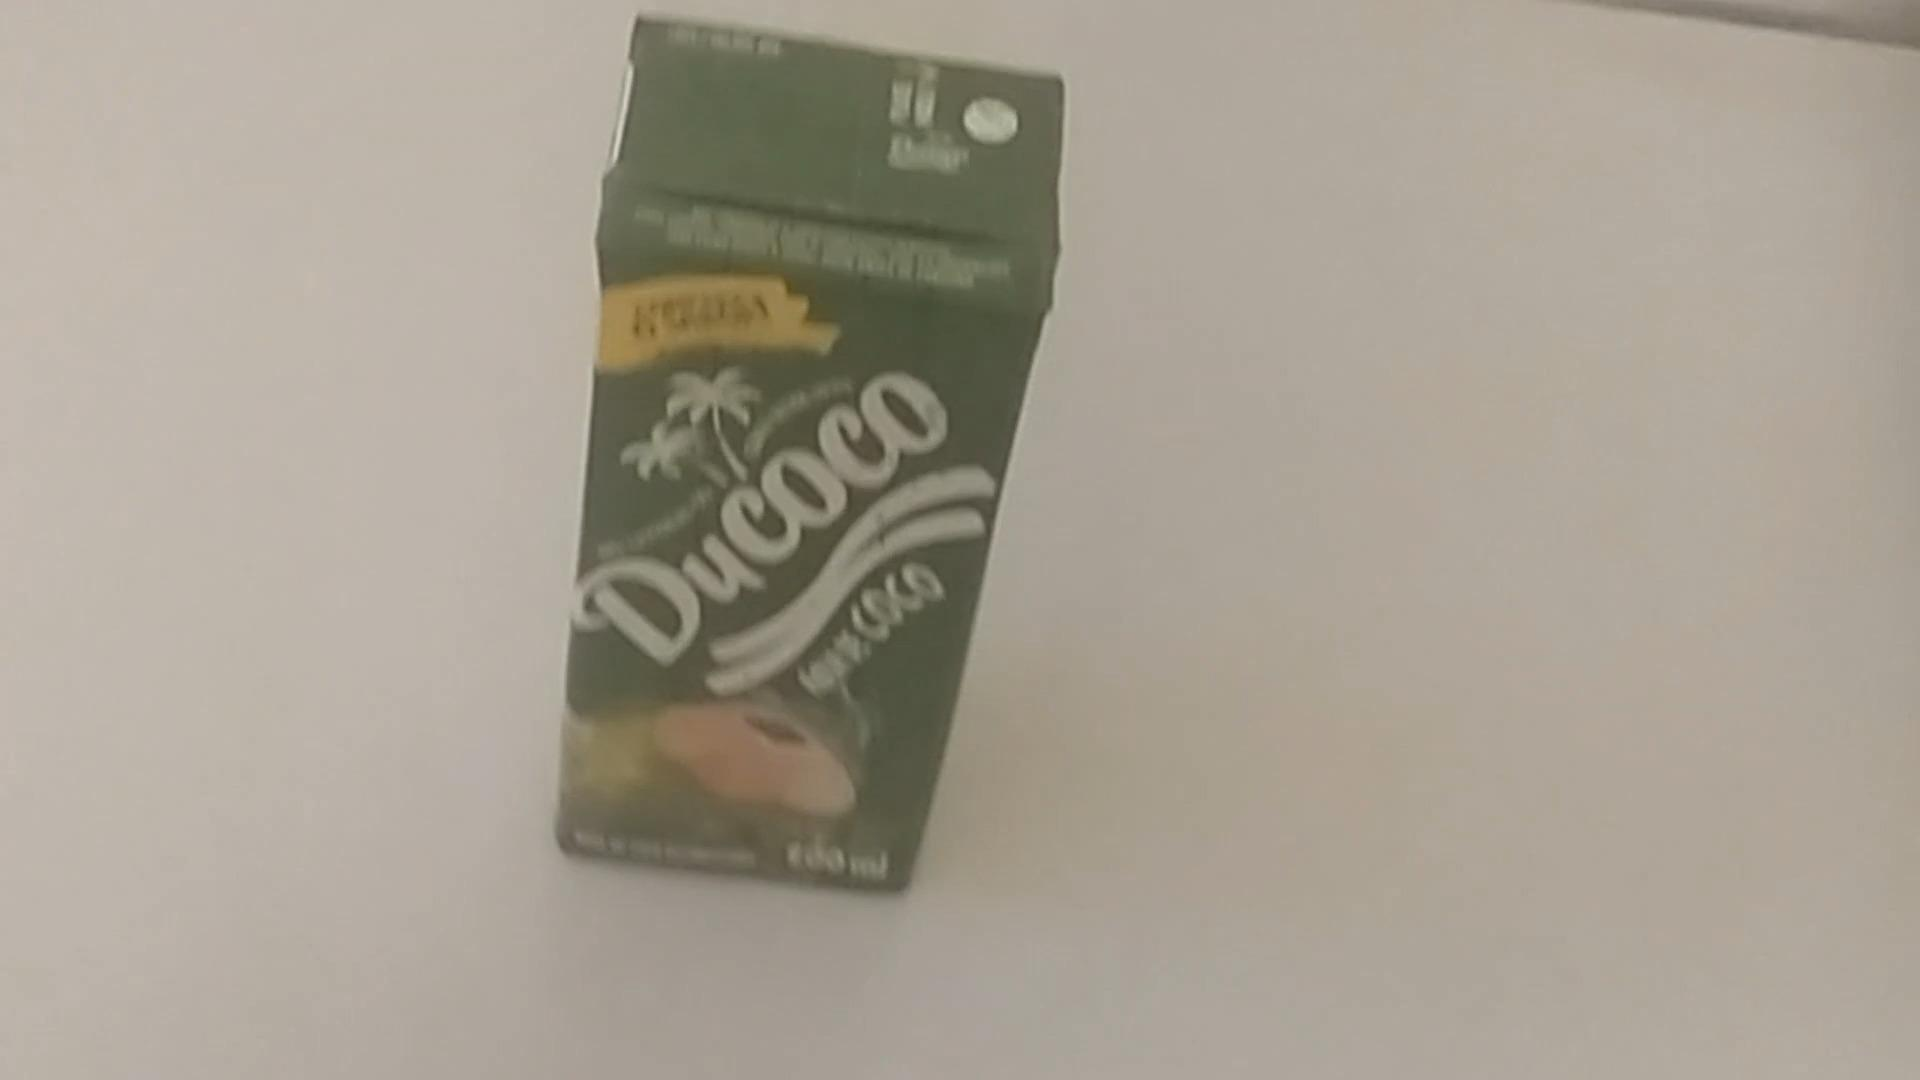coco: (554, 12, 1067, 902)
